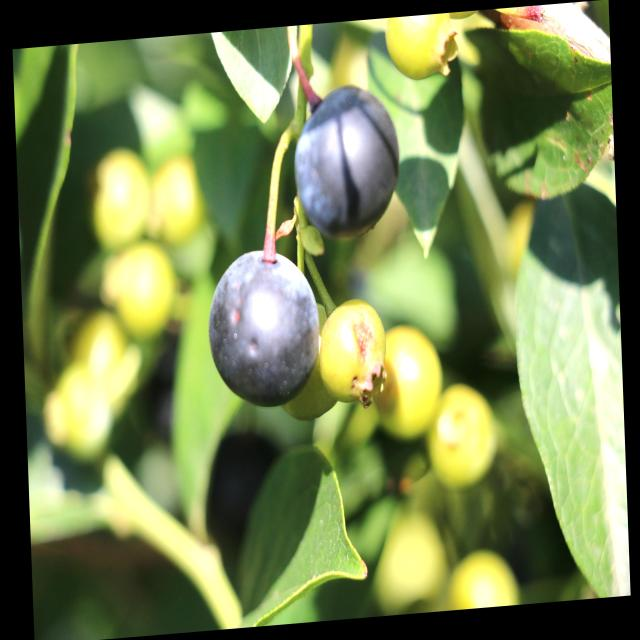blueberry: (203, 245, 322, 412), (290, 81, 404, 246)
blueberry-unripe: (369, 322, 444, 440), (426, 379, 498, 490), (316, 297, 387, 401), (381, 12, 458, 87), (450, 548, 520, 610)
